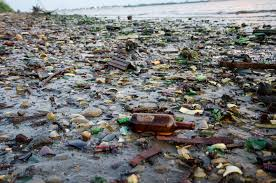garbage: (15, 18, 276, 179)
